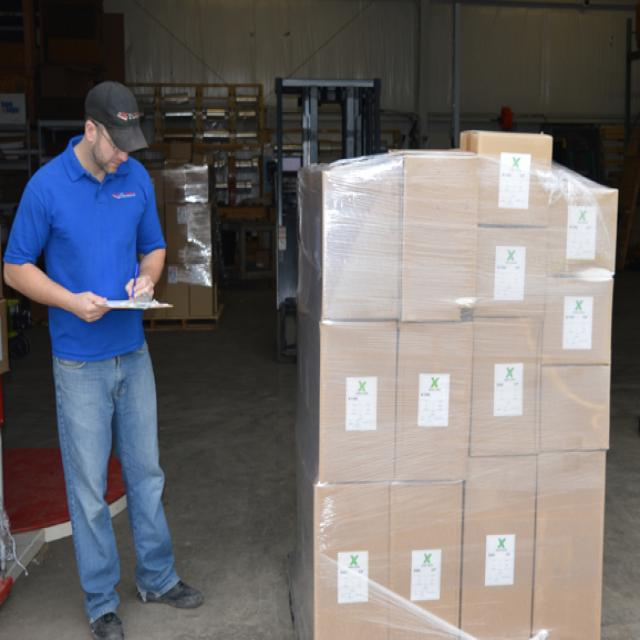cardboxes: (297, 320, 395, 488), (298, 164, 399, 324), (297, 484, 392, 640), (534, 449, 606, 640), (399, 148, 474, 322), (464, 457, 534, 640), (397, 324, 470, 480), (390, 477, 460, 639), (472, 317, 540, 459), (464, 130, 552, 228), (473, 226, 546, 317), (538, 365, 614, 450), (547, 188, 618, 277), (544, 275, 613, 366)
